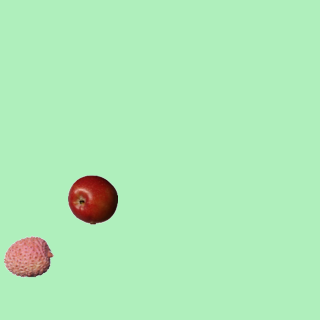Apple Braeburn: (67, 174, 117, 224)
Lychee: (3, 231, 53, 281)
